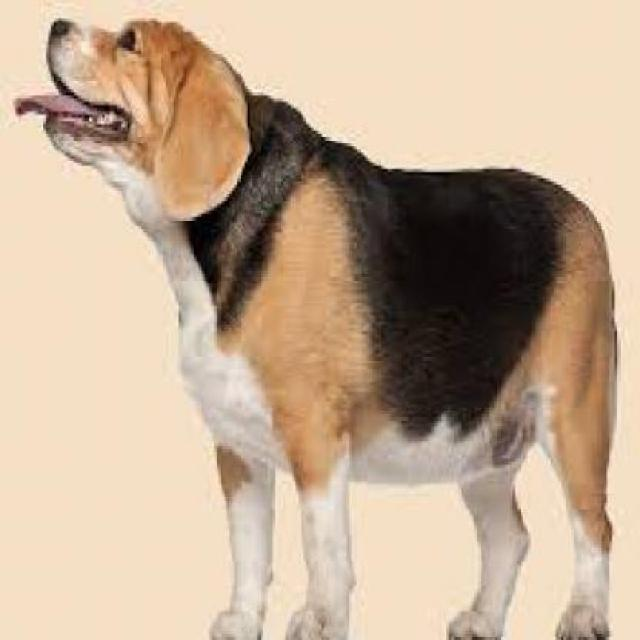Dog: (14, 12, 623, 637)
